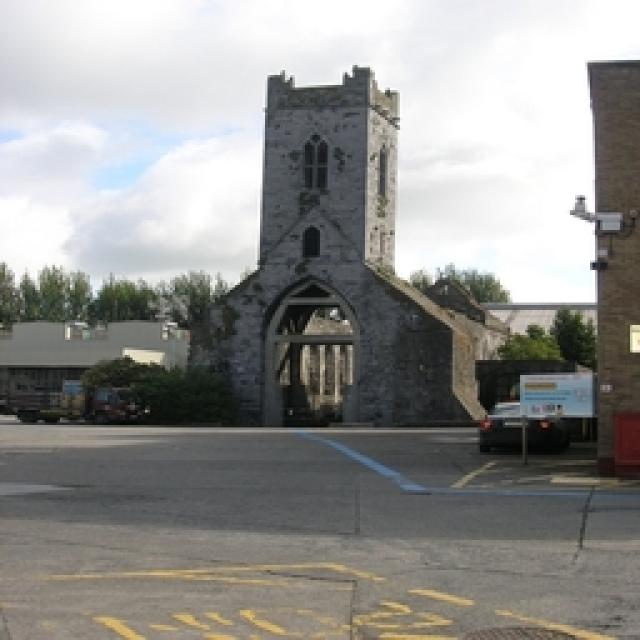Abbey: (253, 273, 375, 447)
